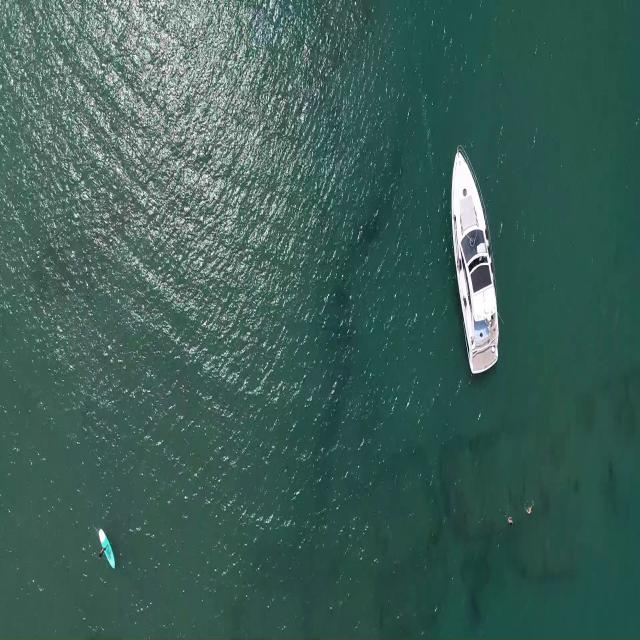boat: (448, 142, 502, 380)
person: (523, 502, 536, 516), (97, 543, 109, 558), (506, 514, 514, 524)
surfboard: (99, 524, 116, 575)
